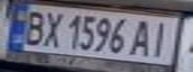1: (60, 11, 84, 51)
5: (78, 12, 96, 52)
6: (109, 16, 133, 55)
9: (93, 15, 112, 53)
A: (127, 17, 157, 57)
B: (18, 7, 51, 46)
I: (145, 18, 175, 57)
X: (39, 8, 66, 50)
